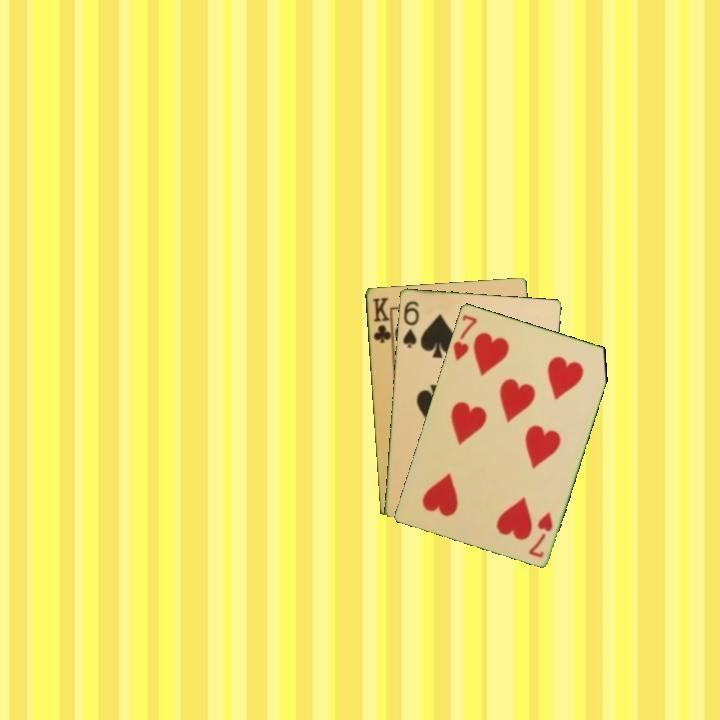6s: (399, 297, 422, 351)
7h: (449, 311, 480, 364), (525, 508, 556, 560)
Kc: (369, 294, 394, 348)
